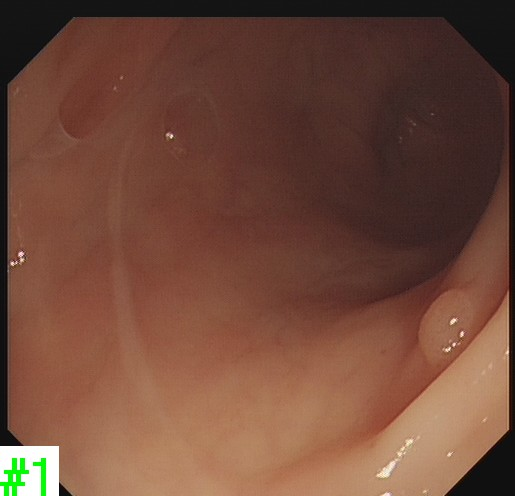adenoma: (414, 284, 479, 365)
